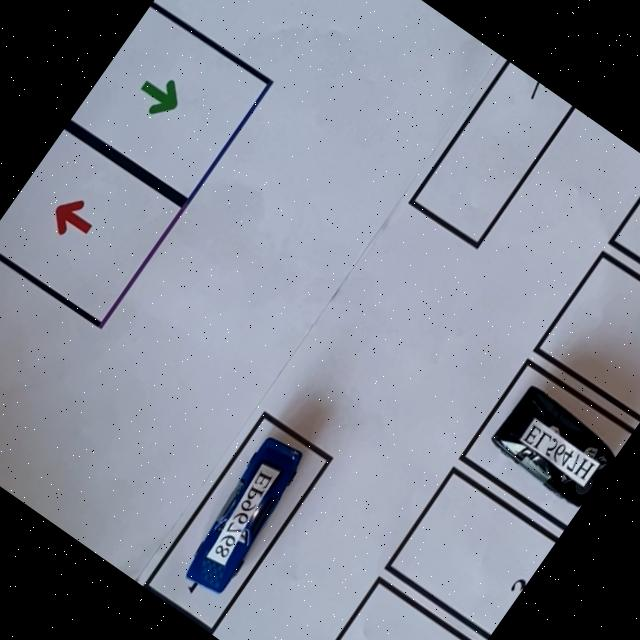car: (185, 437, 302, 592), (492, 389, 615, 506)
